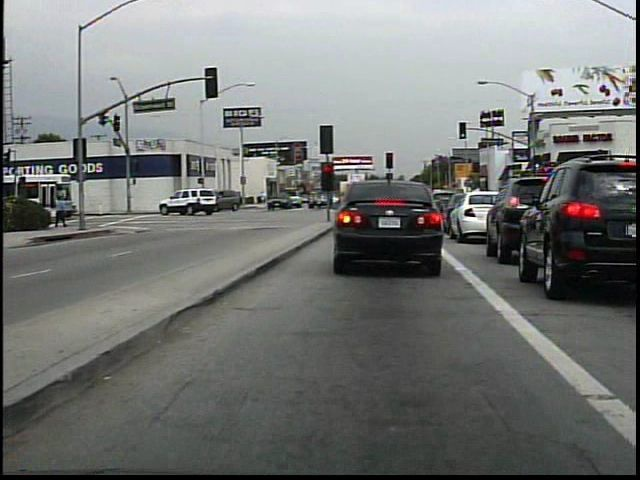person: (55, 192, 72, 232), (261, 187, 269, 209)
